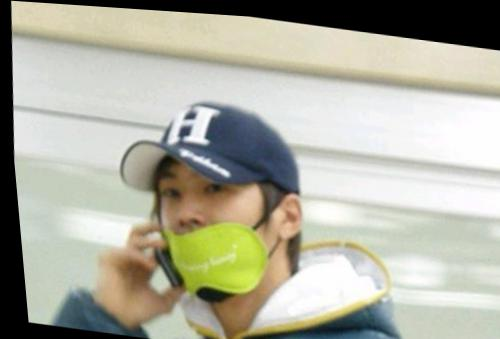WRONG: (136, 153, 280, 294)
